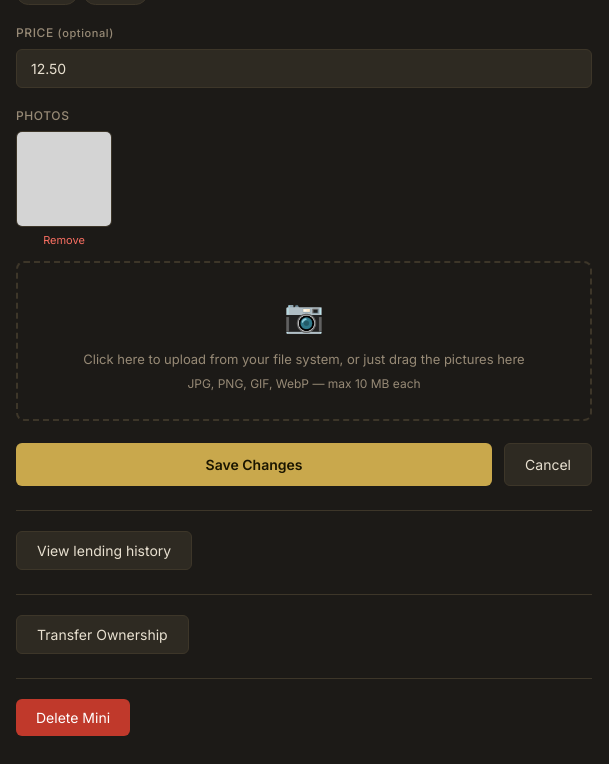
Test: EditMiniPage › shows an error message when the server rejects the edit (e.g. not the owner)
The width and height of the screenshot is (609, 764).
(page scrolled)
Click the button "Save Changes" at (254, 465), box [16, 443, 492, 486]
(page scrolled)
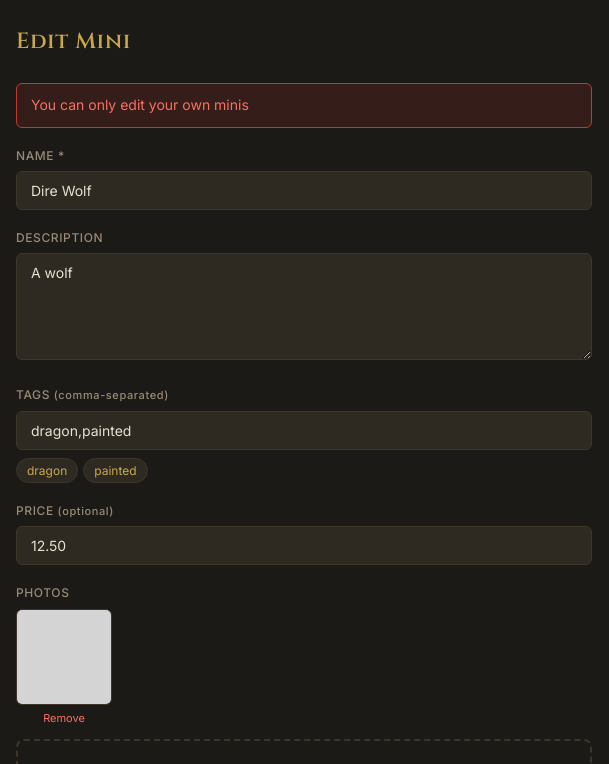
Result: the text "You can only edit your own minis" is shown at [16, 83, 592, 128]
